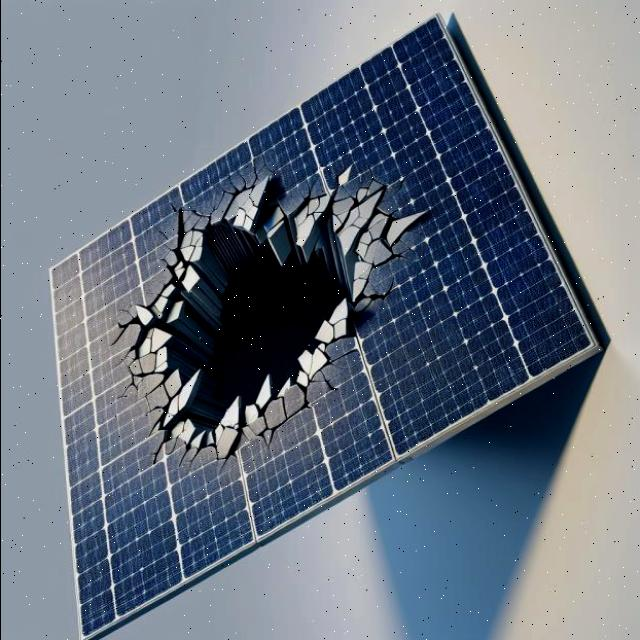Anomaly Solar Panel: (48, 15, 595, 638)
Structural Damage: (52, 92, 432, 522)
